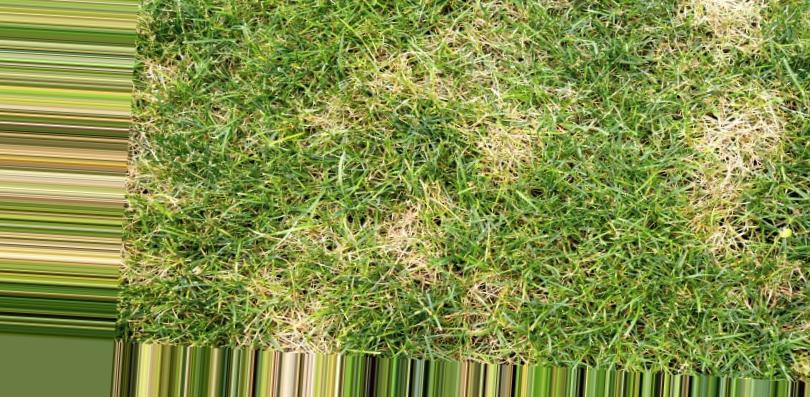patch: (447, 49, 542, 174), (236, 275, 354, 353), (363, 188, 455, 276), (688, 87, 762, 176), (316, 60, 403, 116), (459, 289, 539, 336), (674, 6, 749, 51)
